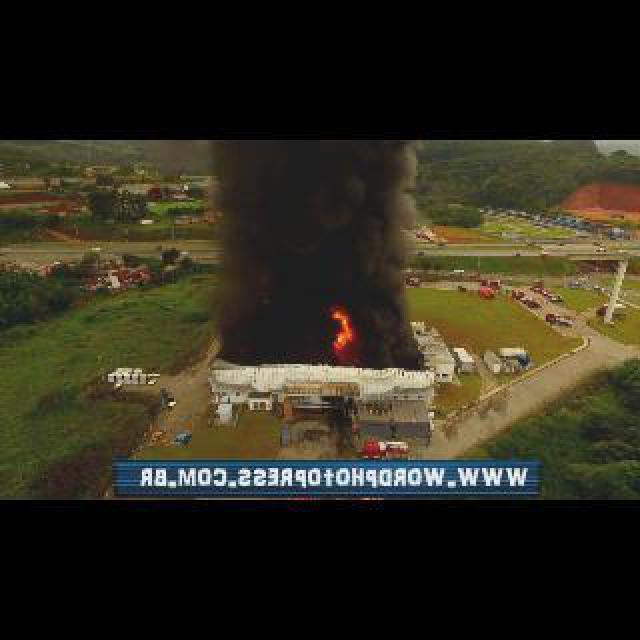Fire: (328, 304, 354, 354)
Smoke: (202, 140, 416, 368)
